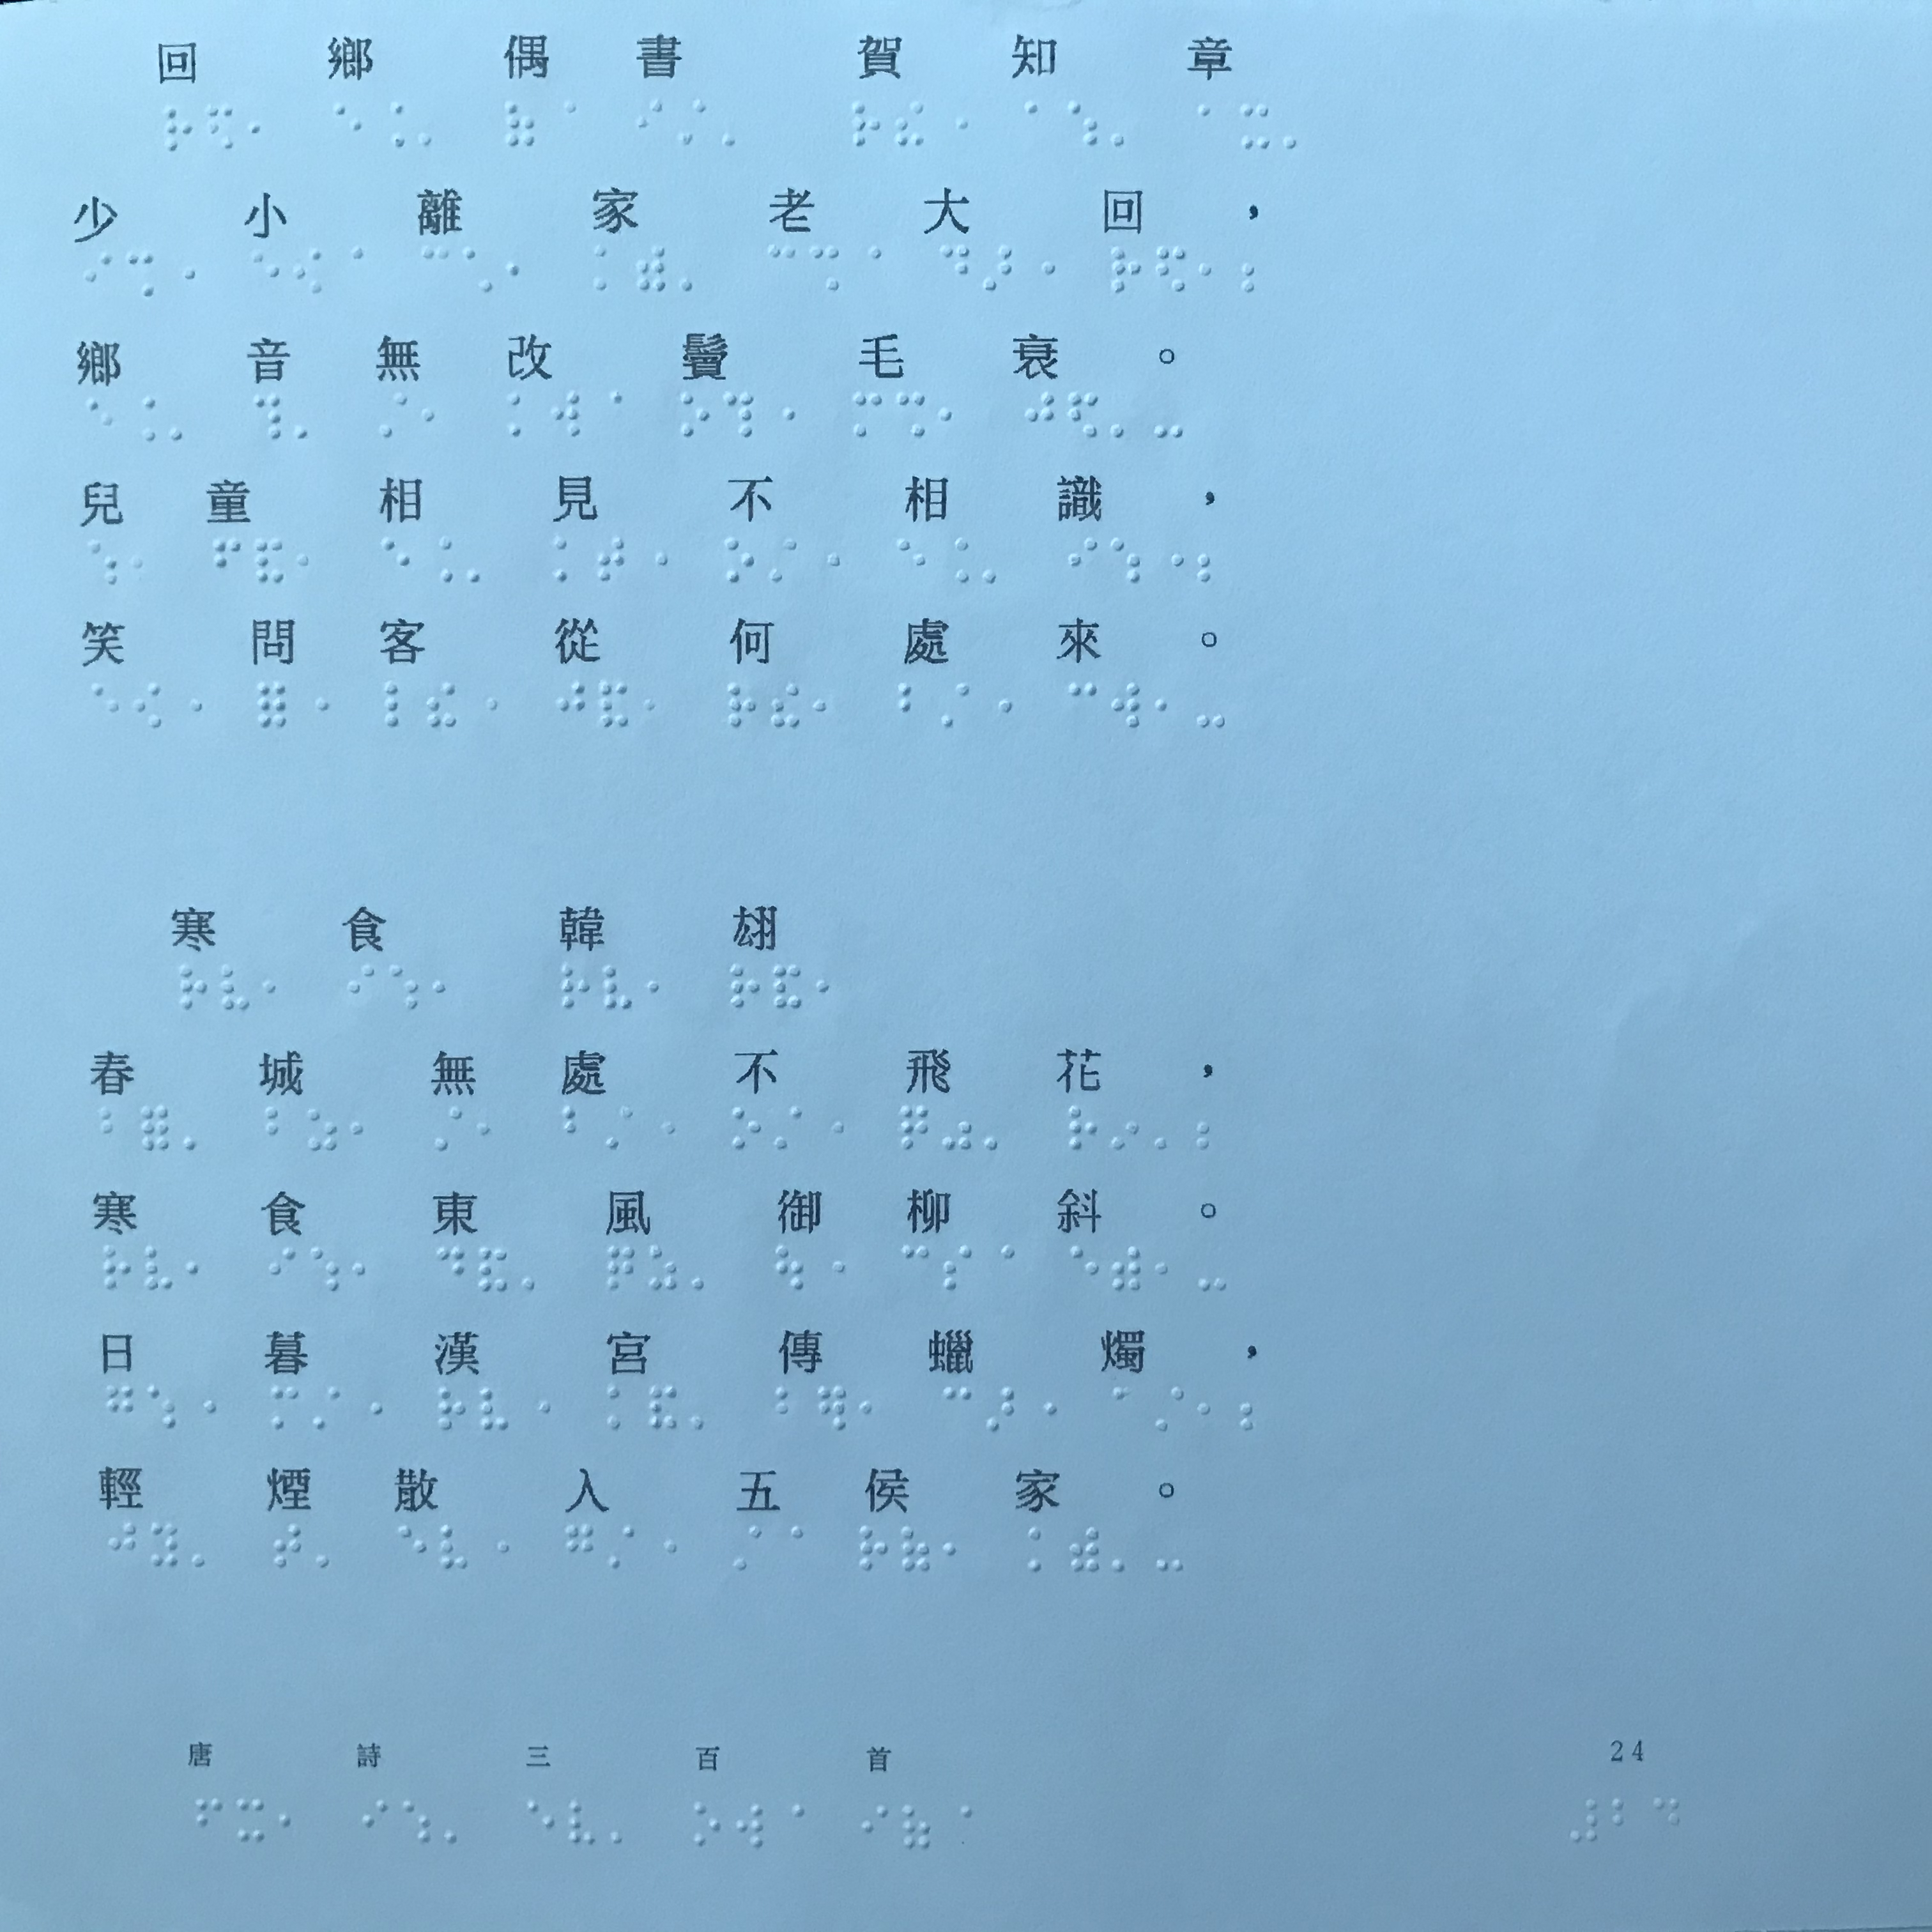Braille: (1566, 1794, 1601, 1845), (142, 1244, 175, 1295), (810, 241, 842, 292), (1069, 391, 1102, 439), (725, 678, 755, 731), (504, 99, 536, 149), (552, 387, 584, 437), (603, 962, 635, 1012), (306, 1106, 338, 1155), (899, 1102, 931, 1152), (1070, 1523, 1102, 1573), (902, 1799, 931, 1854), (895, 99, 925, 150), (1242, 101, 1272, 152), (294, 248, 324, 299), (1111, 244, 1141, 295), (255, 393, 285, 444), (729, 959, 759, 1010), (1155, 1385, 1185, 1437), (676, 99, 708, 147), (982, 244, 1014, 292), (722, 389, 754, 437), (722, 536, 754, 584), (773, 678, 801, 731), (1069, 99, 1099, 149), (421, 244, 451, 294), (1157, 244, 1187, 294), (133, 679, 163, 729), (257, 681, 287, 731), (598, 681, 628, 731), (1067, 679, 1097, 729), (1111, 681, 1141, 731), (773, 962, 803, 1012), (943, 1104, 973, 1154), (1155, 1529, 1185, 1578), (941, 97, 970, 149), (428, 679, 456, 731), (527, 1794, 556, 1845), (851, 99, 881, 147), (127, 251, 157, 299), (637, 244, 667, 292), (941, 241, 971, 288), (1026, 391, 1056, 439), (596, 536, 626, 584), (941, 681, 971, 729), (140, 1104, 170, 1152), (648, 1247, 678, 1295), (310, 1384, 340, 1431), (437, 1385, 467, 1433), (858, 1525, 888, 1573), (1067, 538, 1099, 582), (163, 104, 191, 154), (464, 248, 492, 297), (382, 534, 410, 584), (219, 962, 248, 1012), (387, 962, 416, 1012), (563, 962, 591, 1012), (479, 1106, 508, 1155), (311, 1244, 340, 1293), (945, 1242, 973, 1292), (902, 1525, 931, 1575), (1614, 1794, 1642, 1844), (853, 391, 883, 437), (897, 538, 927, 584), (556, 681, 586, 727), (732, 1106, 763, 1152), (773, 1106, 803, 1152), (1069, 1106, 1099, 1152), (437, 1244, 467, 1290), (237, 1798, 267, 1844), (1024, 101, 1051, 152), (472, 683, 499, 734), (777, 1244, 803, 1295), (1072, 1244, 1099, 1295), (379, 101, 407, 149), (249, 248, 278, 295), (87, 396, 115, 444), (679, 391, 708, 439), (88, 540, 117, 587), (92, 679, 120, 727), (1198, 683, 1226, 731), (179, 962, 207, 1010), (104, 1244, 133, 1292), (184, 1244, 212, 1292), (902, 1242, 931, 1290), (1113, 1244, 1141, 1292), (271, 1384, 299, 1431), (649, 1384, 678, 1431), (987, 1385, 1016, 1433), (1240, 1385, 1269, 1433), (441, 1523, 469, 1571), (731, 1527, 763, 1569), (547, 99, 577, 143), (941, 540, 971, 584), (1654, 1798, 1684, 1842), (771, 242, 798, 292), (269, 1244, 295, 1293), (1198, 1385, 1223, 1438), (738, 1801, 764, 1851), (207, 104, 235, 150), (418, 101, 446, 147), (83, 253, 111, 299), (127, 396, 156, 442), (419, 396, 448, 442), (594, 389, 623, 435), (899, 391, 927, 437), (1155, 395, 1184, 441), (255, 538, 283, 584), (301, 683, 329, 729), (384, 681, 412, 727), (347, 961, 375, 1007), (433, 1106, 462, 1152), (1198, 1249, 1226, 1295), (147, 1385, 175, 1431), (945, 1385, 973, 1431), (566, 1523, 594, 1569), (609, 1525, 637, 1571), (860, 1803, 888, 1849), (605, 1108, 635, 1150), (336, 101, 363, 149), (336, 246, 363, 294), (594, 244, 621, 292), (985, 1106, 1012, 1154), (479, 1246, 506, 1293), (819, 1384, 846, 1431), (152, 1522, 179, 1569), (570, 1799, 596, 1847), (768, 391, 796, 435), (1113, 538, 1141, 582), (99, 1104, 127, 1148), (987, 1244, 1016, 1288), (108, 1520, 136, 1564), (177, 681, 202, 731), (814, 681, 839, 731), (637, 99, 663, 145), (720, 99, 747, 145), (1030, 246, 1056, 292), (426, 536, 453, 582), (1198, 538, 1224, 584), (432, 964, 458, 1010), (819, 1106, 846, 1152), (1113, 1106, 1139, 1152), (189, 1385, 216, 1431), (356, 1385, 382, 1431), (479, 1387, 506, 1433), (692, 1385, 718, 1431), (777, 1387, 803, 1433), (193, 1523, 219, 1569), (274, 1523, 301, 1569), (400, 1523, 426, 1569), (649, 1527, 676, 1573), (694, 1801, 720, 1847), (607, 1247, 635, 1290), (506, 248, 531, 295), (1198, 244, 1223, 292), (938, 389, 962, 437), (899, 678, 924, 725), (987, 683, 1012, 731), (1155, 681, 1180, 729), (646, 964, 671, 1012), (816, 962, 840, 1010), (1154, 1246, 1178, 1293), (1031, 1385, 1056, 1433), (1030, 1525, 1054, 1573), (379, 395, 405, 439), (214, 538, 241, 582), (770, 538, 796, 582), (644, 683, 671, 727), (819, 1247, 846, 1292), (1113, 1389, 1139, 1433), (196, 1796, 223, 1840), (945, 1805, 971, 1849), (775, 1527, 803, 1568), (248, 106, 272, 152), (856, 244, 881, 290), (1242, 248, 1267, 294), (556, 538, 580, 584), (642, 538, 667, 584), (1154, 1106, 1178, 1152), (1198, 1106, 1223, 1152), (352, 1246, 377, 1292), (108, 1385, 133, 1431), (609, 1384, 633, 1430), (1111, 1527, 1136, 1573), (405, 1799, 430, 1845), (563, 1106, 589, 1148), (483, 1527, 510, 1569), (442, 1803, 469, 1845), (778, 1803, 805, 1845), (1113, 103, 1138, 147), (1200, 104, 1224, 149), (1281, 106, 1306, 150), (170, 249, 195, 294), (508, 393, 533, 437), (467, 538, 492, 582), (817, 540, 842, 584), (1159, 538, 1184, 582), (184, 1106, 209, 1150), (350, 1109, 375, 1154), (649, 1108, 674, 1152), (315, 1525, 340, 1569), (297, 395, 320, 441), (1113, 393, 1136, 439), (295, 538, 318, 584), (262, 964, 285, 1010), (945, 1527, 968, 1573), (267, 1106, 292, 1148), (522, 1251, 547, 1293), (692, 1247, 717, 1290), (363, 1799, 387, 1842), (679, 248, 702, 292), (170, 398, 193, 442), (858, 1385, 881, 1430), (278, 1799, 301, 1844), (609, 1801, 632, 1845), (982, 543, 1005, 584), (527, 1391, 550, 1431), (131, 545, 152, 586)
